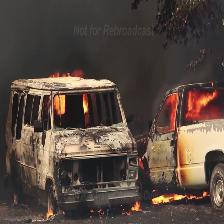fire: (46, 69, 224, 219), (126, 91, 224, 221), (43, 52, 102, 120)
